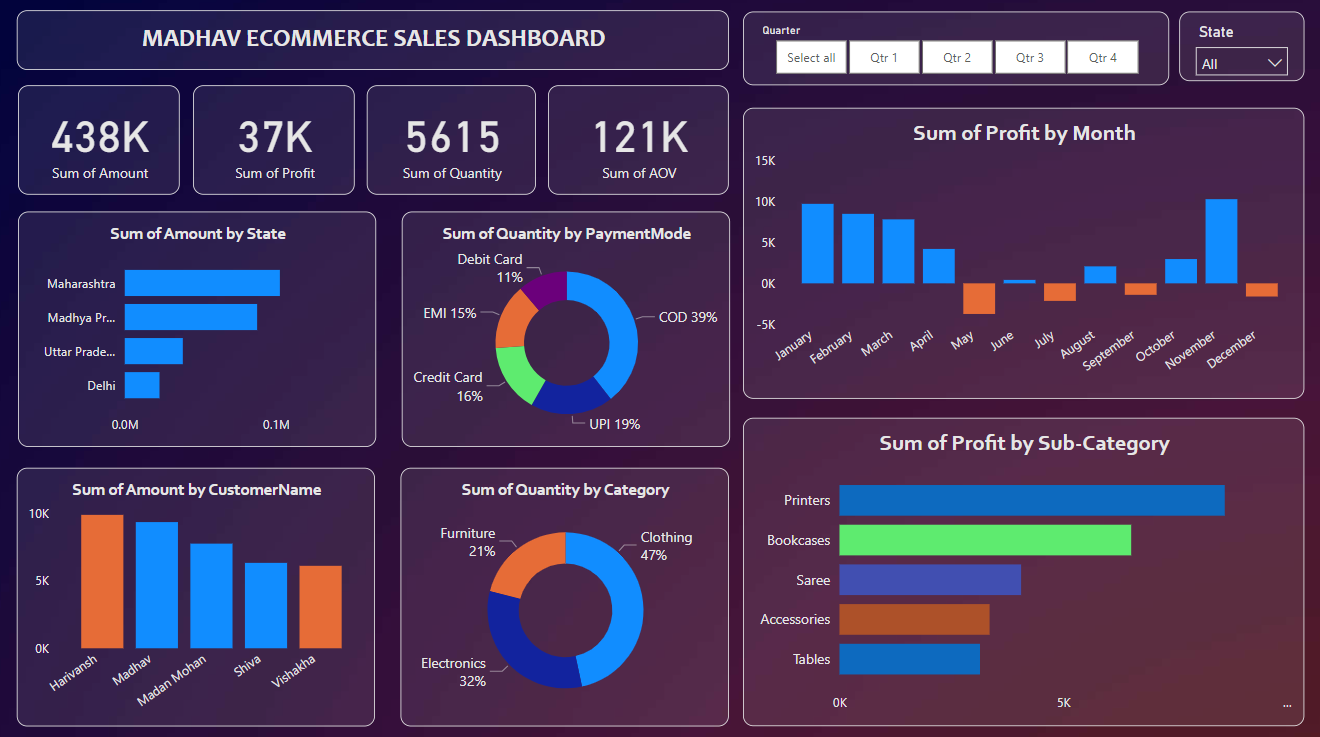

What the dashboard file says about the page in this screenshot:
{"tool":"powerbi","page":{"name":"Page 1","canvas":[1280,720],"ordinal":0},"visuals":[{"type":"textbox","box":[23.3,15.1,686.9,57.6],"z":0},{"type":"columnChart","fields":{"Y":["Details.Profit"],"Category":["Orders.Order Date.Variation.Date Hierarchy.Month"]},"box":[723.3,109.7,541.6,281.1],"z":1000},{"type":"barChart","fields":{"Category":["Details.Sub-Category"],"Y":["Details.Profit"]},"box":[723.3,408.6,541.6,297.5],"z":2000},{"type":"donutChart","fields":{"Category":["Details.Category"],"Y":["Details.Quantity"]},"box":[392.9,456.6,316.7,249.5],"z":3000},{"type":"donutChart","fields":{"Y":["Details.Quantity"],"Category":["Details.PaymentMode"]},"box":[394.9,209.8,316.7,227.6],"z":4000},{"type":"card","fields":{"Values":["Details.Amount"]},"box":[24.4,87.7,156.3,105.6],"z":5000},{"type":"card","fields":{"Values":["Details.Profit"]},"box":[193.1,87.7,156.3,105.6],"z":6000},{"type":"card","fields":{"Values":["Details.Quantity"]},"box":[360.3,87.7,163.2,105.6],"z":7000},{"type":"card","fields":{"Values":["Details.AOV"]},"box":[535.8,87.7,174.1,105.6],"z":8000},{"type":"barChart","fields":{"Category":["Orders.State"],"Y":["Details.Amount"]},"box":[24.7,209.8,345.5,227.6],"z":9000},{"type":"columnChart","fields":{"Category":["Orders.CustomerName"],"Y":["Details.Amount"]},"box":[22.7,456.6,345.5,249.5],"z":10000},{"type":"slicer","fields":{"Values":["Orders.State"]},"box":[1144.8,16.5,120.7,67.2],"z":10002},{"type":"slicer","fields":{"Values":["Orders.Order Date.Variation.Date Hierarchy.Quarter"]},"box":[723.9,16.5,411.3,71.3],"z":10003}]}

Visuals, with their boxes in screenshot pixels (x1, y1, x2, y2), scaled from the page's 1280x720 canvas onto the 1320x737 screenshot:
textbox: 24,15,732,74
columnChart - Details.Profit x Orders.Order Date.Variation.Date Hierarchy.Month: 746,112,1304,400
barChart - Details.Sub-Category x Details.Profit: 746,418,1304,723
donutChart - Details.Category x Details.Quantity: 405,467,732,723
donutChart - Details.Quantity x Details.PaymentMode: 407,215,734,448
card - Details.Amount: 25,90,186,198
card - Details.Profit: 199,90,360,198
card - Details.Quantity: 372,90,540,198
card - Details.AOV: 553,90,732,198
barChart - Orders.State x Details.Amount: 25,215,382,448
columnChart - Orders.CustomerName x Details.Amount: 23,467,380,723
slicer - Orders.State: 1181,17,1305,86
slicer - Orders.Order Date.Variation.Date Hierarchy.Quarter: 747,17,1171,90
